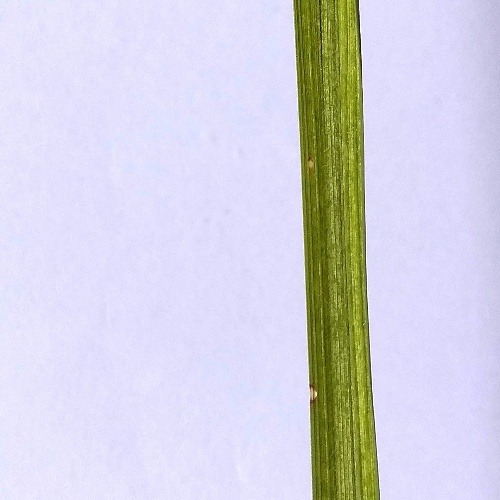Busuk Leher: (302, 378, 323, 406), (300, 151, 320, 174)
